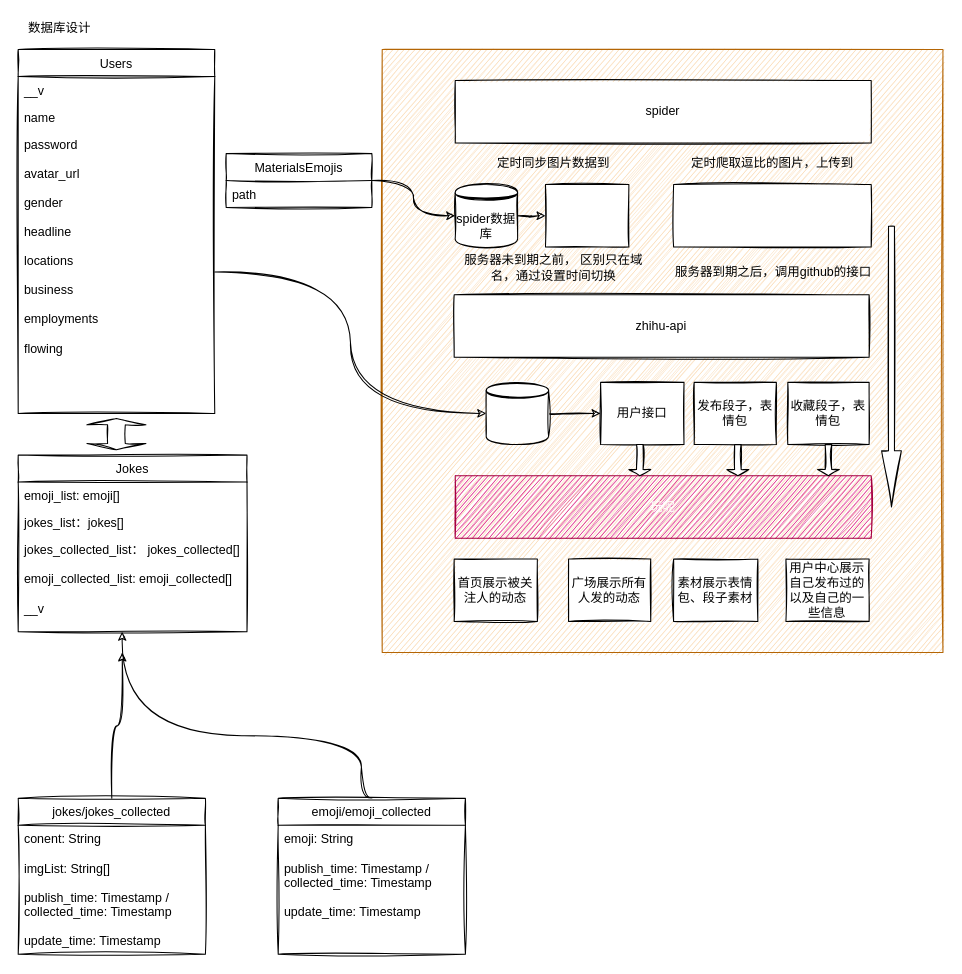
The diagram is 962 pixels wide and 974 high, and some of its shapes have lost their labels. Here are the shapes that lost their labels. From the top down, the centre of each, then its label:
the point at 586,215: 图片接口
the point at 772,215: github/diagrams
the point at 517,413: zhihu-api数据库
